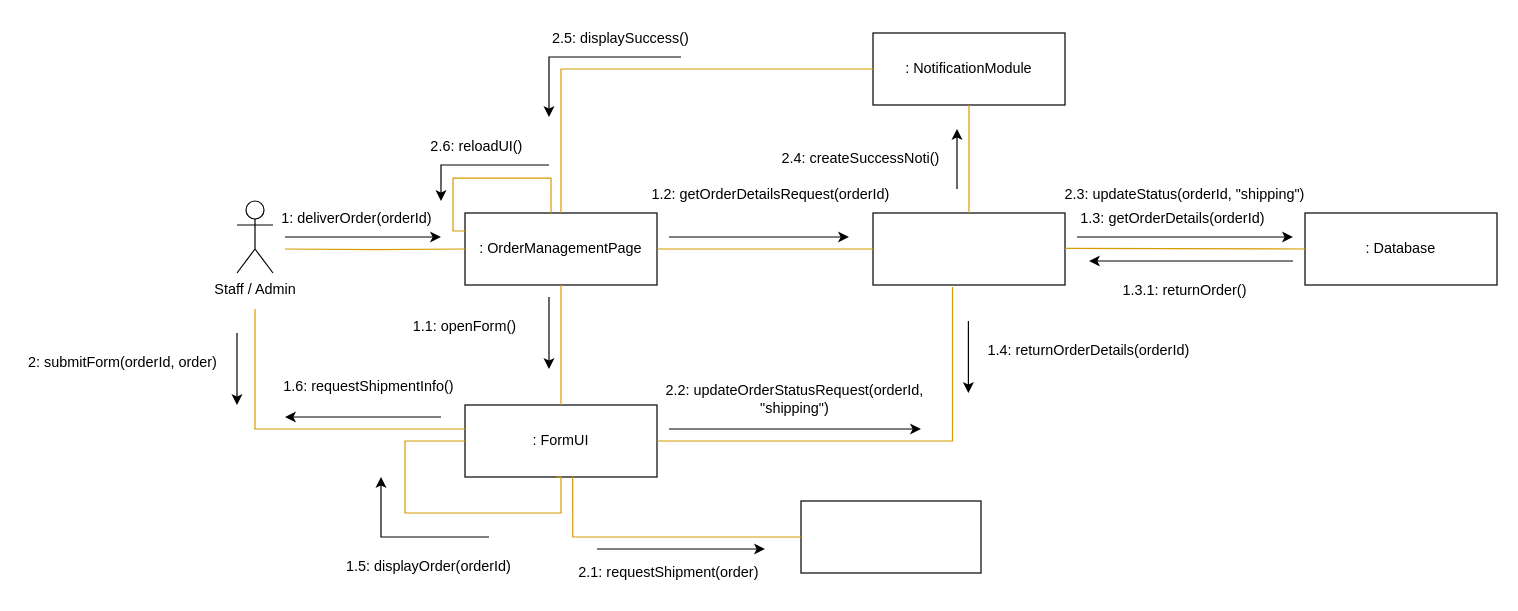
Some shapes in this 1518 by 611 pixel diagram are drawn without their labels. The shapes that lost their labels are listed below. From the top down, each one's box as (x1, y1, x2, y2) in pixels, then its label:
(872, 212, 1065, 285): : OrderController
(800, 500, 981, 573): : ShipmentCompany
